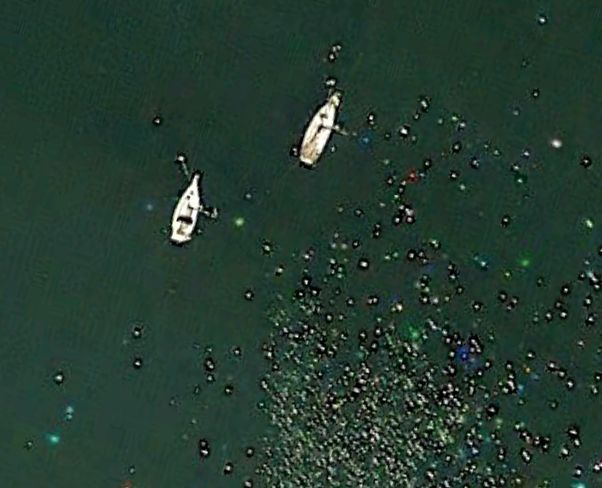boat: (297, 87, 343, 170), (169, 168, 205, 246)
